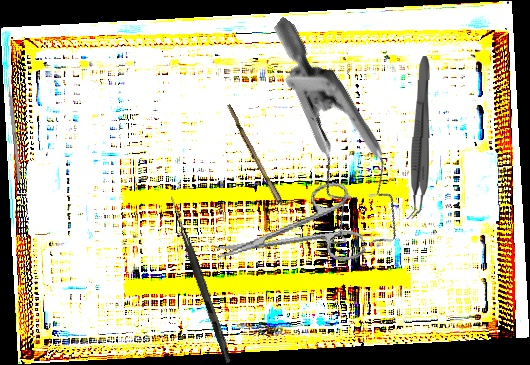Hook Surgical: (165, 195, 235, 364)
Iris Scissors: (206, 178, 368, 289)
Pusher: (5, 68, 22, 182)
Speculum: (190, 16, 461, 274)
Surgical Spoon: (223, 103, 304, 240)
Tissue Forceps: (407, 55, 431, 220)
